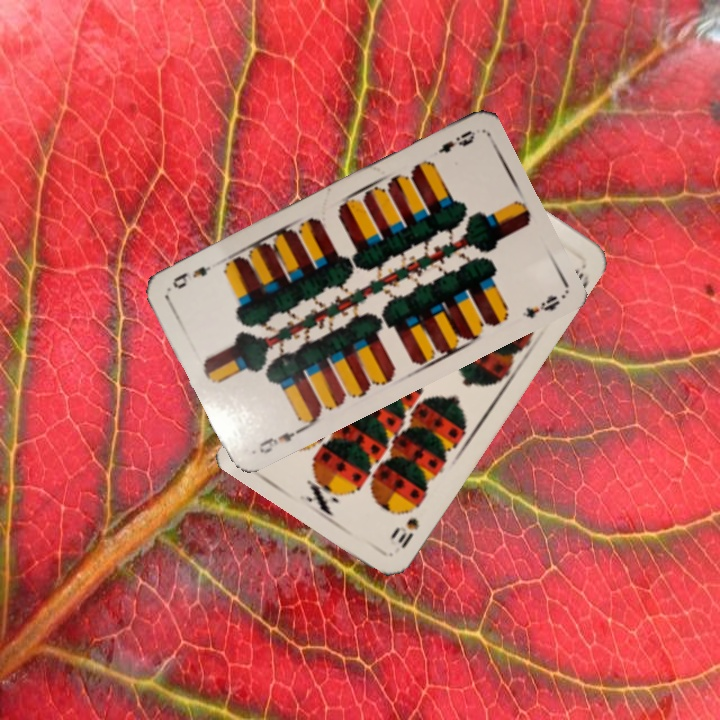E9: (254, 424, 305, 457), (433, 126, 479, 156)
S10: (386, 513, 422, 552)
